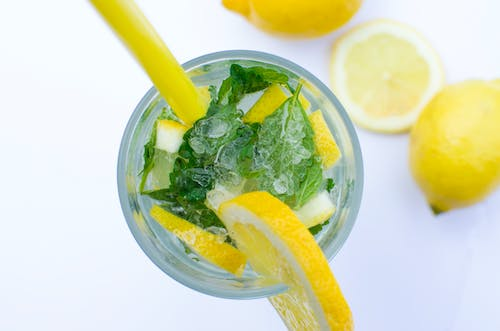alcohol: (115, 48, 366, 300)
